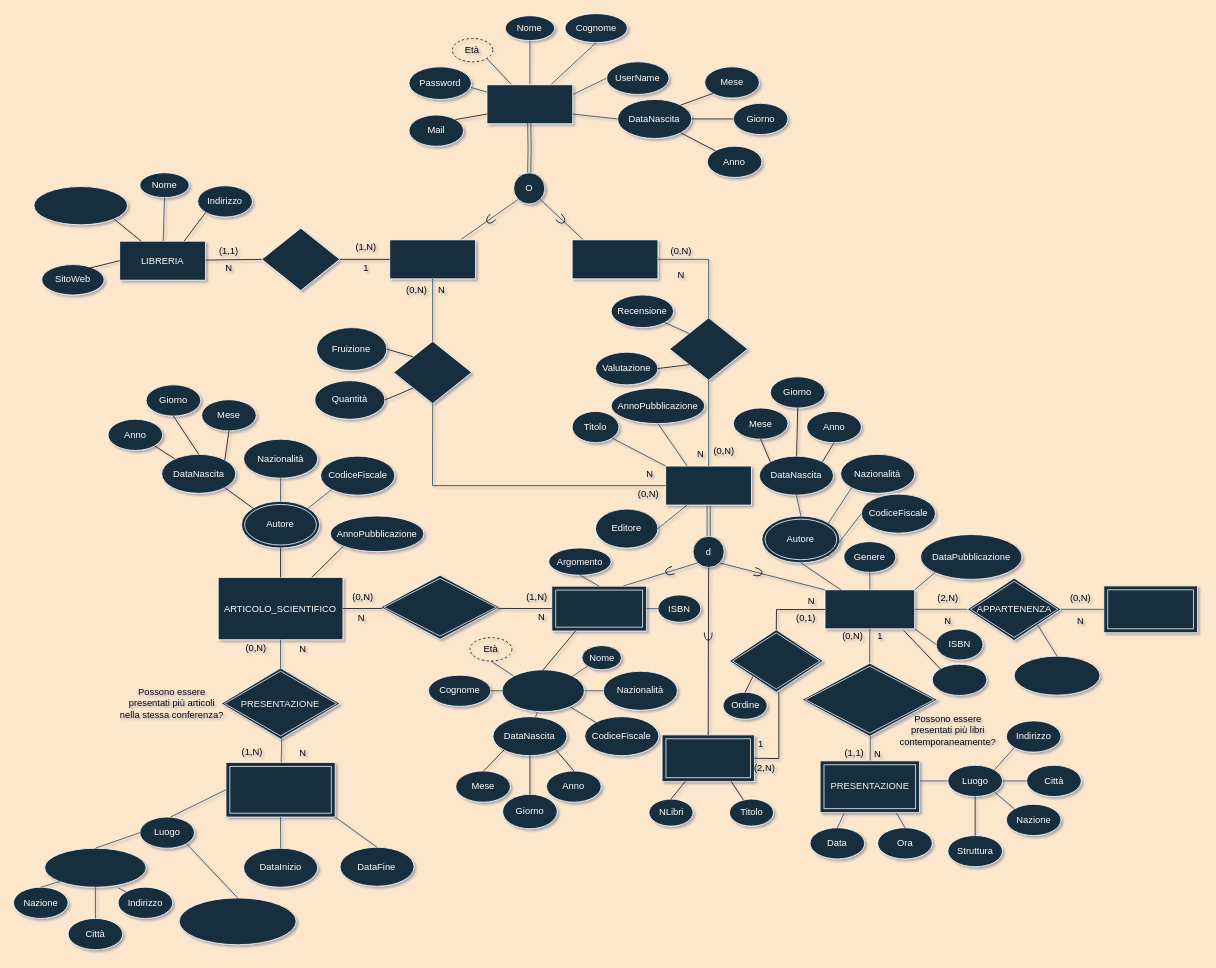
Image size: 1216x968. Some labels were removed from this diagram. Here are the shapes that lost their labels. From the top down, the centre of each, then its label:
the point at 529,104: UTENTE
the point at 80,205: NumeroTelefonico
the point at 300,259: GESTIONE
the point at 432,259: VENDITORE
the point at 614,259: STANDARD
the point at 708,348: PREFERITI
the point at 432,372: POSSESSO
the point at 708,485: ELEMENTO
the point at 440,606: COMPOSIZIONE
the point at 599,608: RIVISTA
the point at 869,609: LIBRO
the point at 1150,609: COLLANA
the point at 776,660: INSERIMENTO
the point at 959,679: Lingua
the point at 1056,675: Caratteristica
the point at 542,690: Responsabile
the point at 869,699: PARTECIPAZIONE
the point at 707,758: SERIE
the point at 280,789: CONFERENZA
the point at 95,867: LuogoConferenza
the point at 237,921: StrutturaOrganizzatrice
